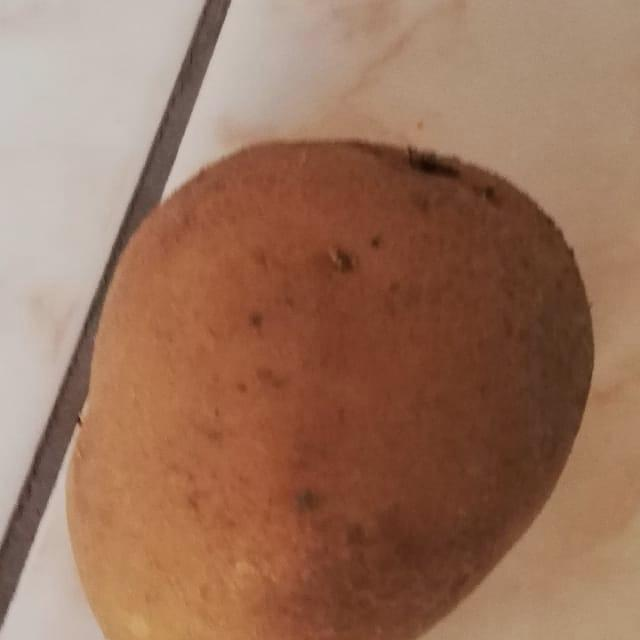potato: (48, 106, 608, 640)
